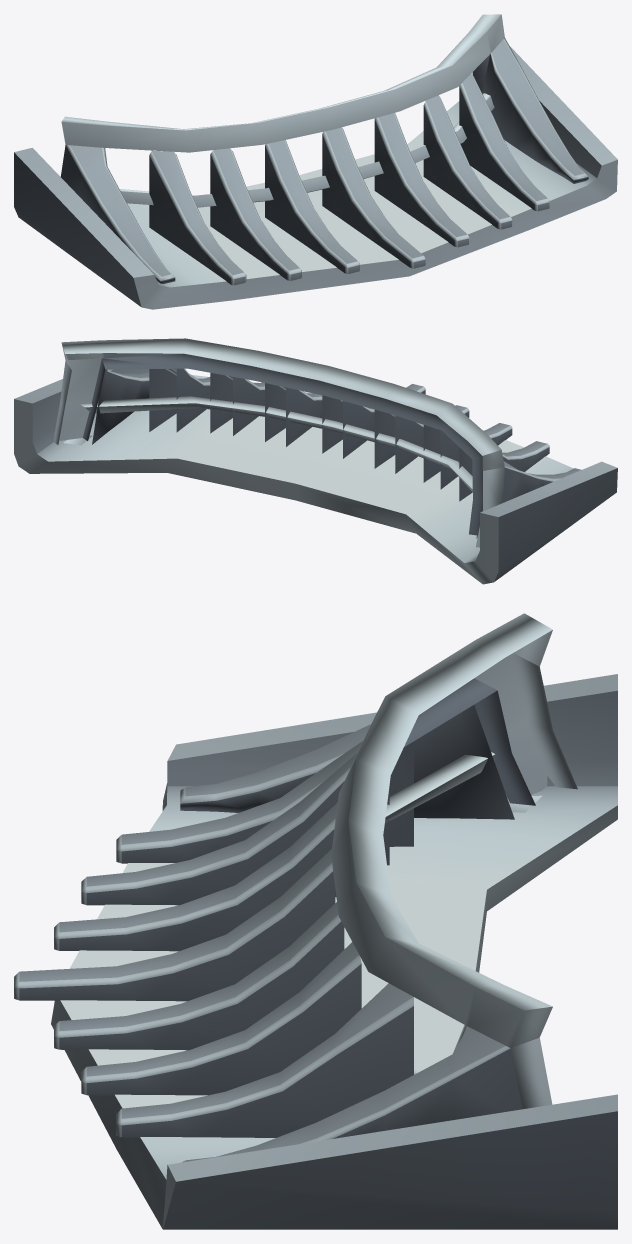
File: Def_Sports_01.fbx
3 renders of one model, top to bottom at view 1: azimuth 30°, elevation 25°; view 2: azimuth 150°, elevation 25°; view 3: azimuth 270°, elevation 25°, orthographic. The views are drawn at different scales.
Parts seen in each view (by area): view 1: Def_Sports_01; view 2: Def_Sports_01; view 3: Def_Sports_01.
Boxes of the visible parts, x1=… form: Def_Sports_01: x1=14, y1=14, x2=617, y2=309; Def_Sports_01: x1=14, y1=338, x2=617, y2=584; Def_Sports_01: x1=14, y1=613, x2=617, y2=1229.
Bounding box in the file's own units: 75.06 × 16.98 × 43.82.
